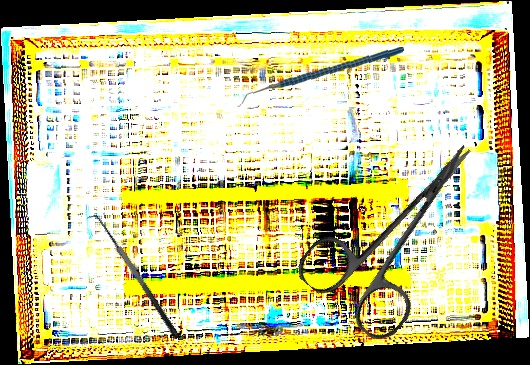Chopper: (237, 38, 404, 116)
Iris Scissors: (291, 112, 516, 348)
Spatula Surgical: (85, 208, 181, 347)
